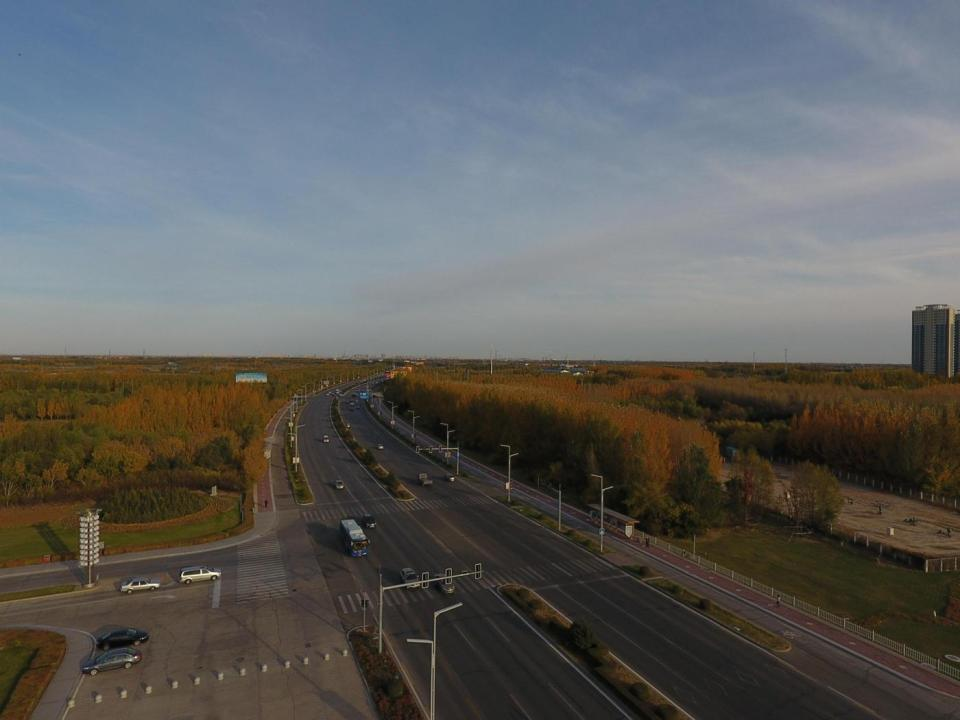bus: (339, 518, 371, 558)
car: (81, 646, 143, 676), (95, 626, 150, 650), (178, 565, 222, 584), (119, 576, 161, 594), (398, 566, 421, 590), (433, 572, 456, 594), (361, 513, 378, 529), (334, 479, 344, 489), (376, 443, 384, 449), (344, 398, 350, 404), (354, 398, 360, 404), (346, 422, 351, 428), (355, 404, 360, 410), (349, 397, 354, 403), (349, 406, 354, 411), (350, 401, 354, 405)
truck: (416, 472, 432, 487)
van: (443, 473, 456, 482), (322, 434, 330, 442)
